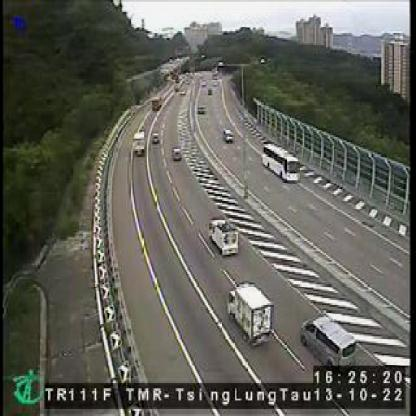Bus: (261, 142, 299, 182)
Car: (298, 315, 357, 372), (224, 129, 235, 143), (173, 148, 182, 162), (151, 131, 160, 143), (198, 104, 205, 113)
Truck: (227, 282, 276, 346), (207, 217, 242, 258), (132, 129, 144, 154), (151, 97, 162, 112)
